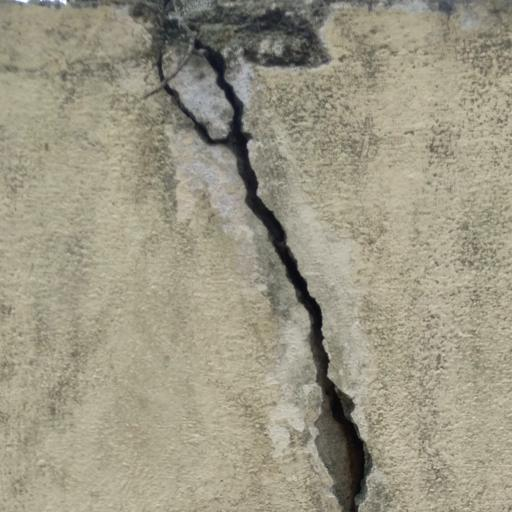major_crack: (145, 10, 394, 512)
